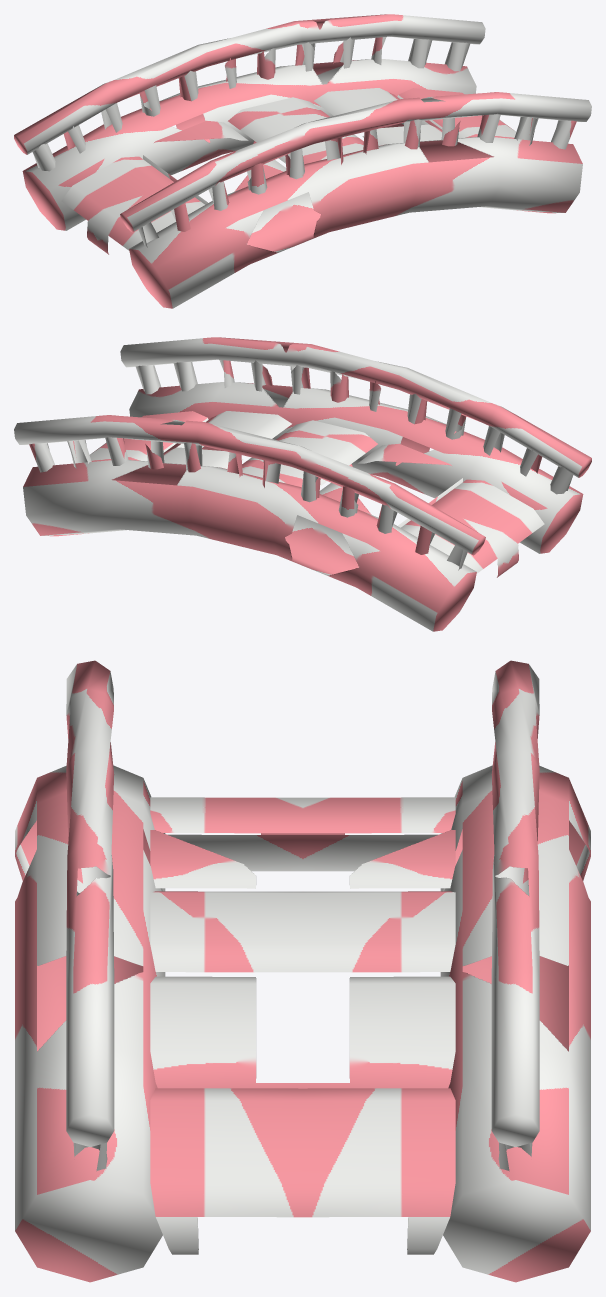
Rendered from bridge_mellow.fbx.
The picture shows the model from 3 angles, top to bottom: view 1: azimuth 30°, elevation 25°; view 2: azimuth 150°, elevation 25°; view 3: azimuth 270°, elevation 25°; orthographic projection. The views are drawn at different scales.
Visible parts, largest first — view 1: bridge_mellow; view 2: bridge_mellow; view 3: bridge_mellow.
Part boxes in pixels (x1,y1,x2,y2): bridge_mellow: [14, 14, 591, 308]; bridge_mellow: [14, 337, 591, 631]; bridge_mellow: [15, 660, 590, 1282].
Bounding box in the file's own units: 1955 × 598 × 1047.
